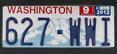placa de veiculo: (3, 4, 114, 47)
